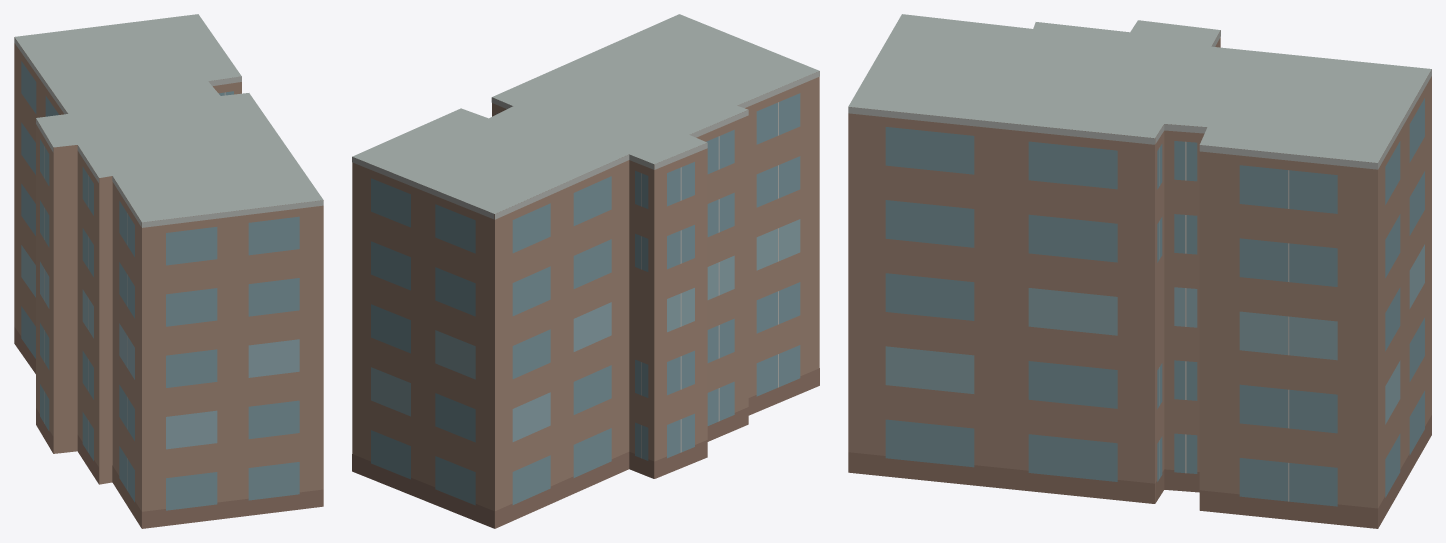
The model's file is survey-upis-32617085.glb.
3 renders of one model, left to right at view 1: azimuth 30°, elevation 25°; view 2: azimuth 150°, elevation 25°; view 3: azimuth 270°, elevation 25°, orthographic. The views are drawn at different scales.
Parts seen in each view (by area): view 1: survey-upis-32617085.tmp; view 2: survey-upis-32617085.tmp; view 3: survey-upis-32617085.tmp.
Boxes of the visible parts, left/top/right/bottom form: survey-upis-32617085.tmp: left=14, top=14, right=323, bottom=528; survey-upis-32617085.tmp: left=352, top=14, right=819, bottom=528; survey-upis-32617085.tmp: left=848, top=14, right=1431, bottom=528.
Size of the model in its own units: 11.81 by 13.5 by 19.53.
